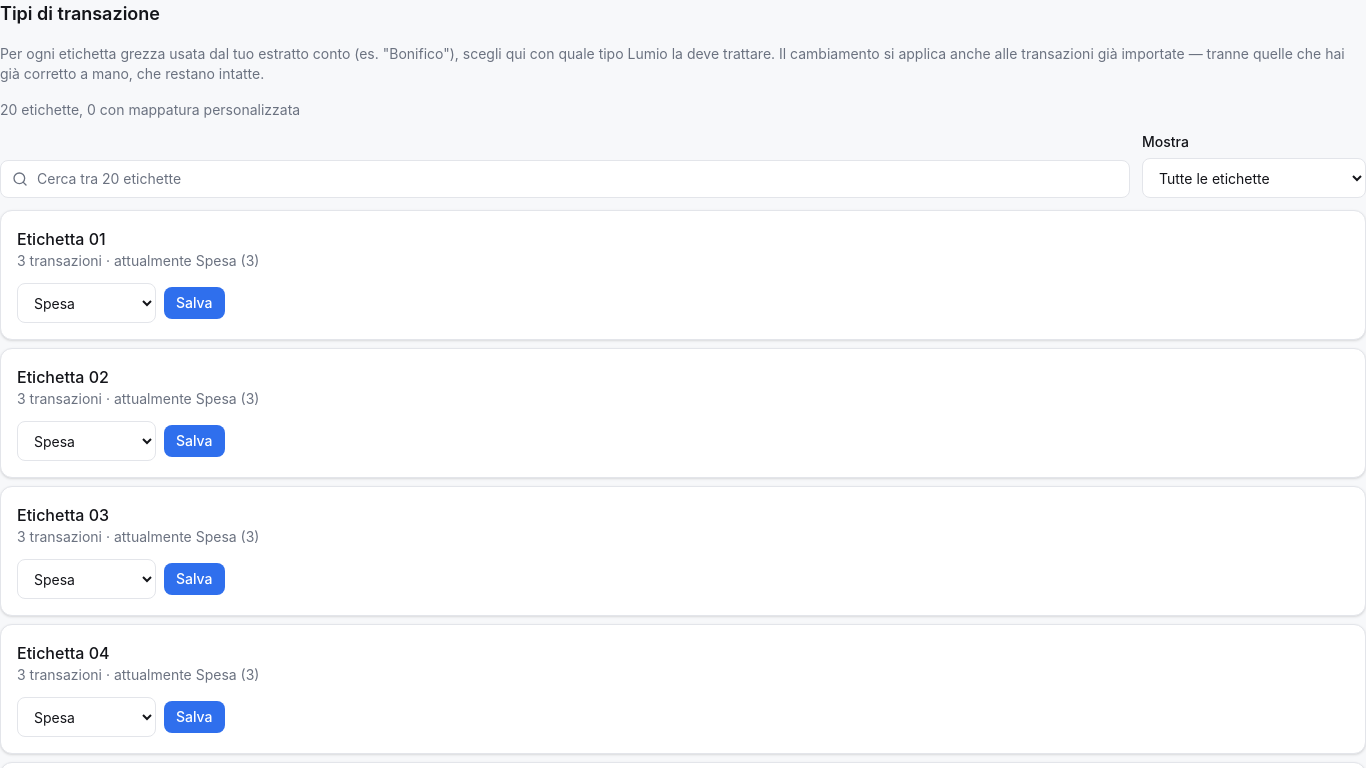
Test case: Mappatura dei tipi di transazione › la ricerca trova un'etichetta in mezzo a molte
Expected: the text "Etichetta 01" is shown, [17,229,106,249]
Type "etichetta 19" into the search field named "Cerca nelle etichette" at (565, 179), box [0,160,1130,198]
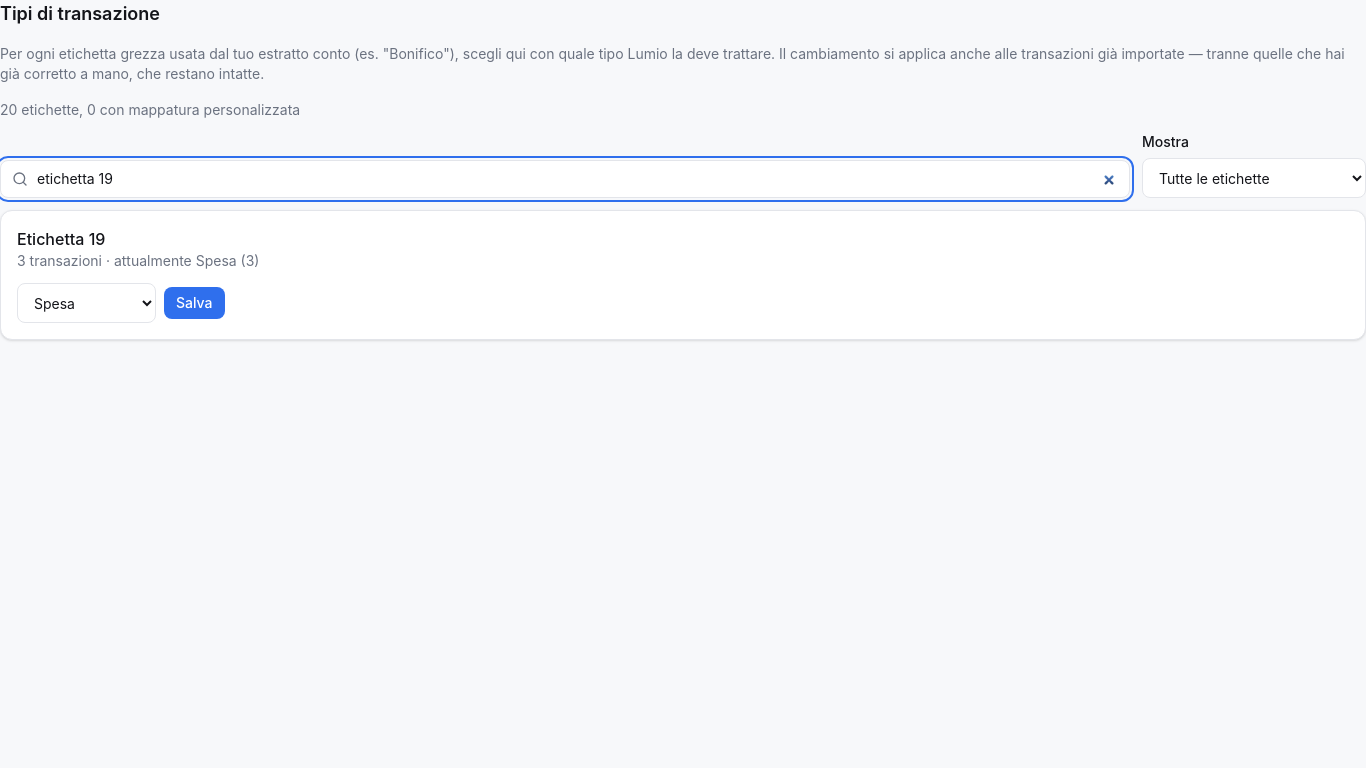
Expected: the text "Etichetta 19" is shown, [17,229,105,249]
Expected: the text "Etichetta 01" is gone
